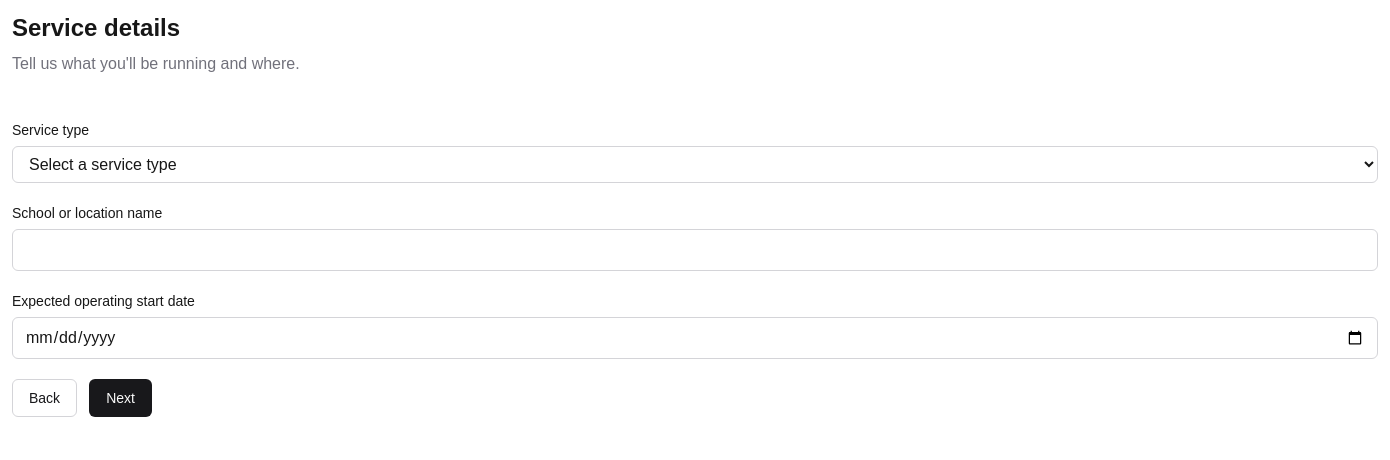
Test case: ServiceDetailsPage › shows a validation error when the start date is in the past
The width and height of the screenshot is (1390, 460).
Select "Canteen" in the dropdown labelled "Service type" at (695, 164), box [12, 146, 1378, 183]
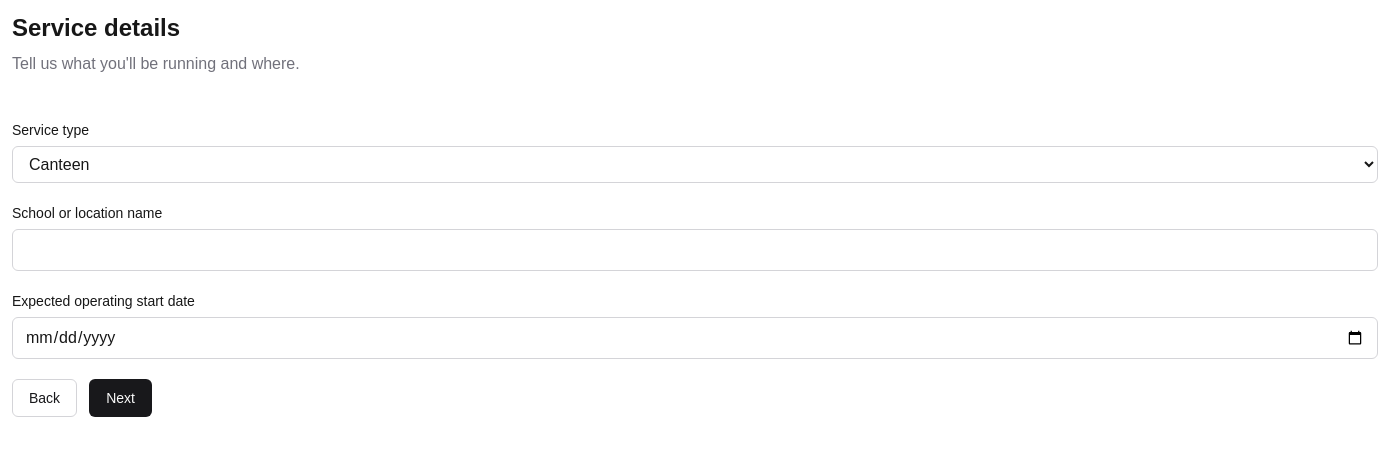
Type "Test School" into the field labelled "School or location name".
click(695, 250); type("Test School")  # box [12, 229, 1378, 271]
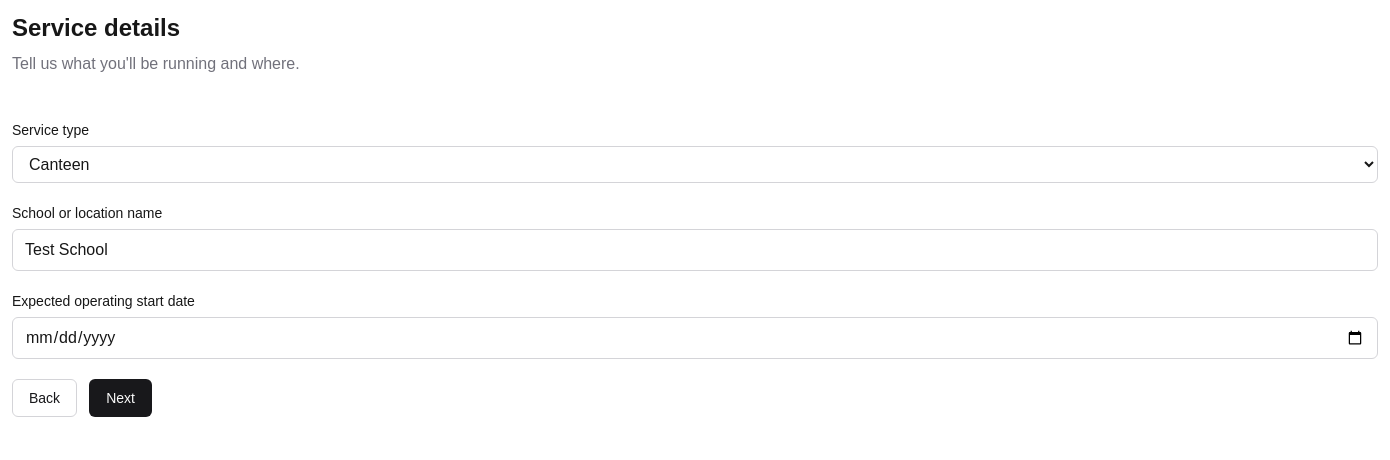
Type "2000-01-01" into the date field labelled "Expected operating start date".
click(695, 338); type("2000-01-01")  # box [12, 317, 1378, 359]
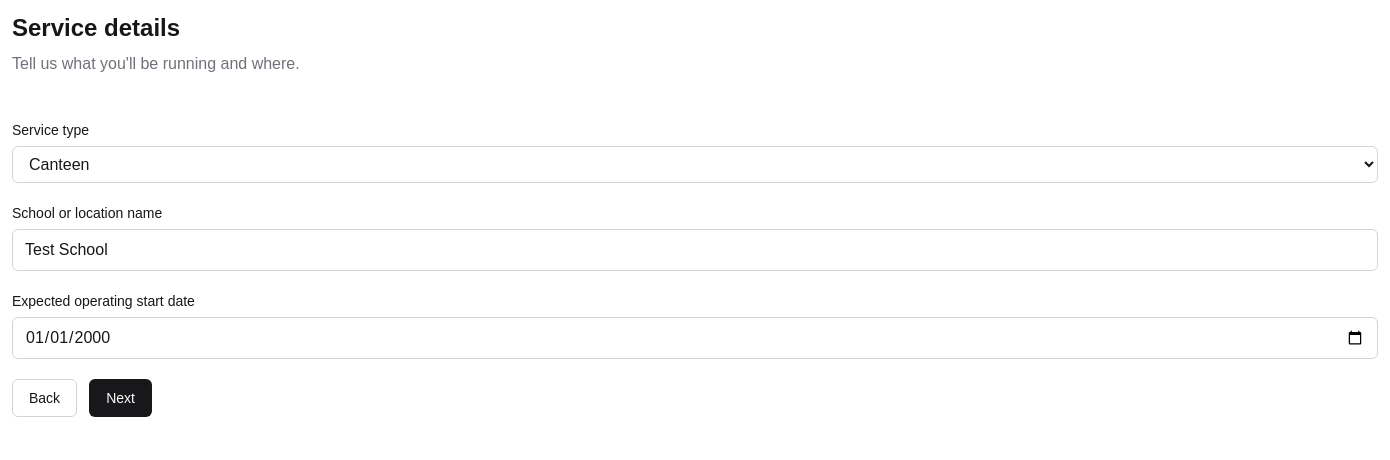
Submit the form named "next"
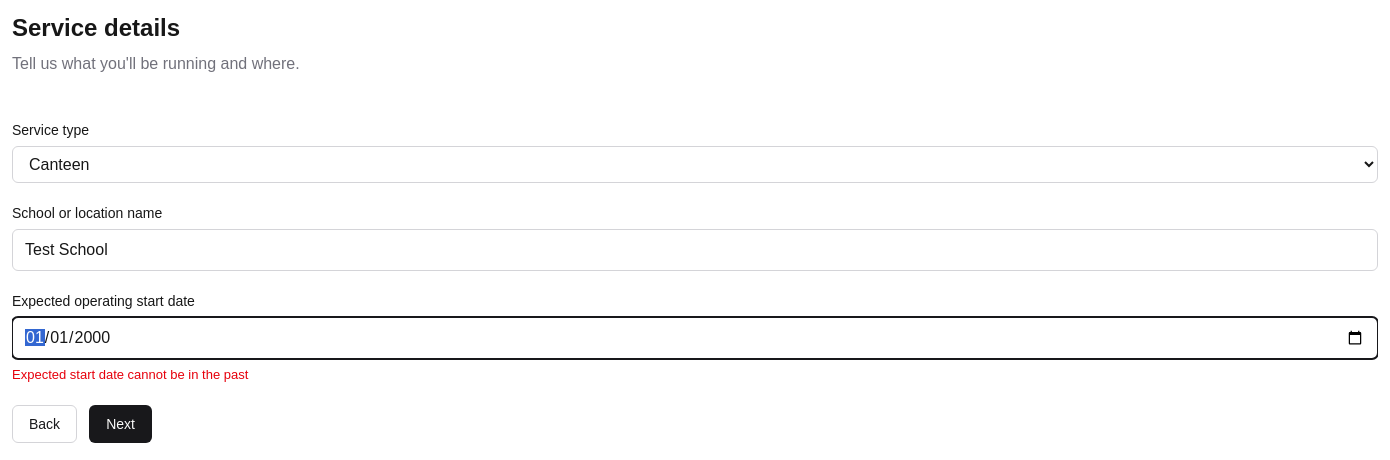
Now the text "Expected start date cannot be in the past" is shown, box [12, 367, 248, 382]
